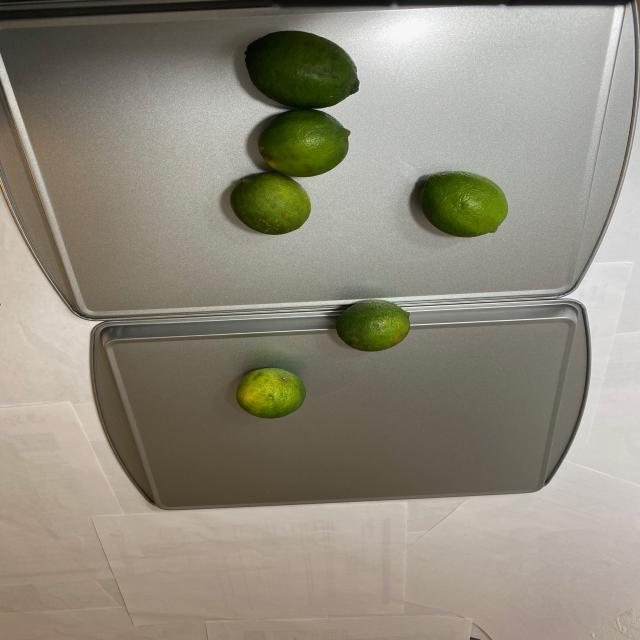lemon: (210, 21, 364, 239), (230, 300, 414, 420), (411, 165, 512, 250)
